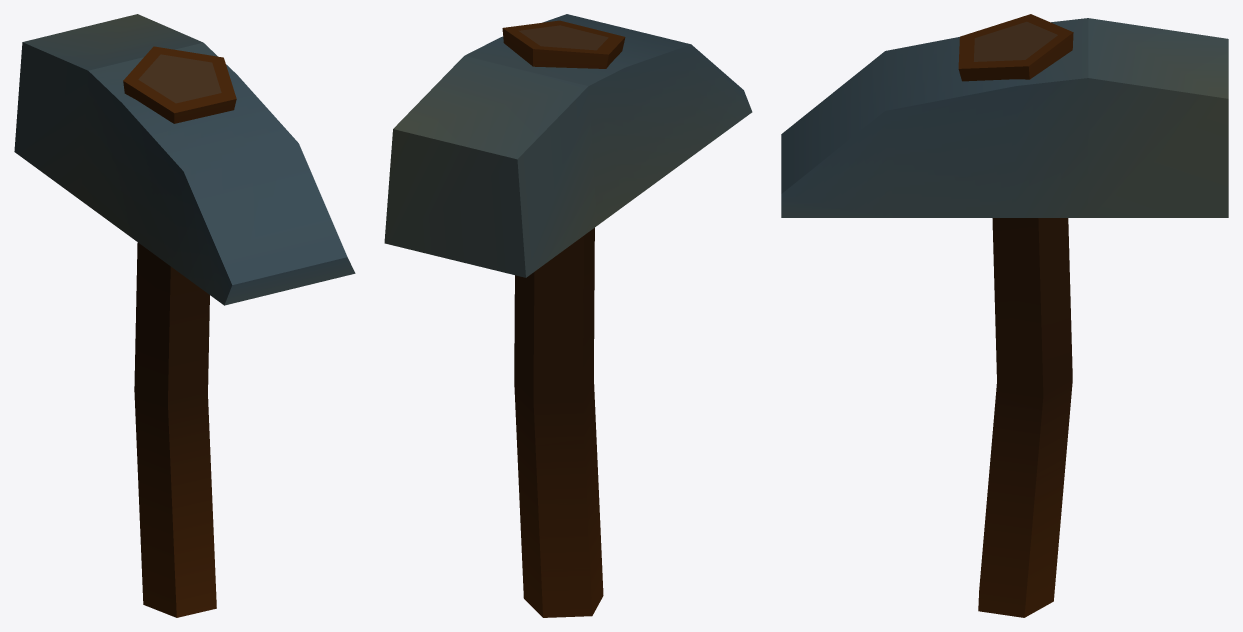
File: Hammer Iron.fbx
3 views of the same model, side by side, from view 1: azimuth 30°, elevation 25°; view 2: azimuth 150°, elevation 25°; view 3: azimuth 270°, elevation 25° (orthographic). The views are drawn at different scales.
Parts seen in each view (by area): view 1: Hammer_Iron; view 2: Hammer_Iron; view 3: Hammer_Iron.
Boxes of the visible parts, x1,y1,x2,y2 form: Hammer_Iron: (14, 14, 355, 617); Hammer_Iron: (384, 14, 752, 617); Hammer_Iron: (781, 14, 1228, 617).
Bounding box in the file's own units: 25.83 × 100 × 71.54.
